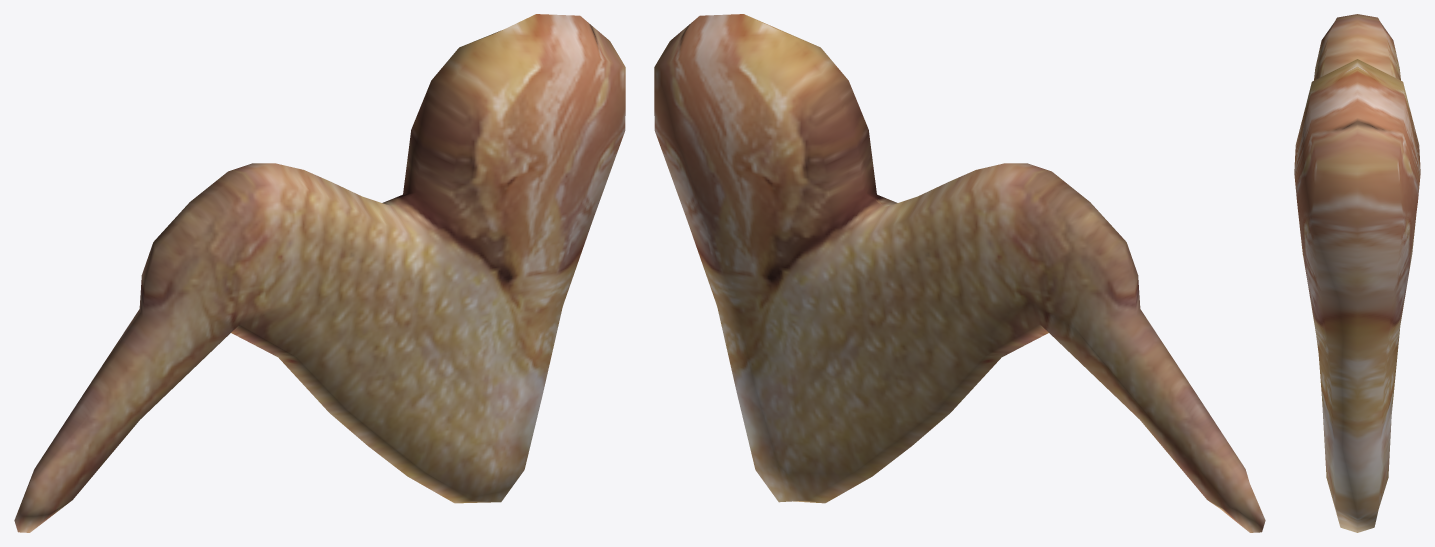
File: giblets_3.fbx
3 views of the same model, side by side, from view 1: azimuth 30°, elevation 25°; view 2: azimuth 150°, elevation 25°; view 3: azimuth 270°, elevation 25° (orthographic).
Parts seen in each view (by area): view 1: giblets_03; view 2: giblets_03; view 3: giblets_03.
Part boxes in pixels (x1,y1,x2,y2): giblets_03: (14, 14, 625, 532); giblets_03: (654, 14, 1265, 532); giblets_03: (1294, 14, 1420, 532).
Size of the model in its own units: 17.72 by 13.48 by 3.2.
